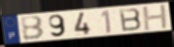1: (100, 9, 112, 34)
4: (73, 11, 93, 36)
9: (48, 14, 67, 38)
B: (19, 15, 46, 41), (118, 7, 144, 33)
H: (141, 3, 170, 32)
